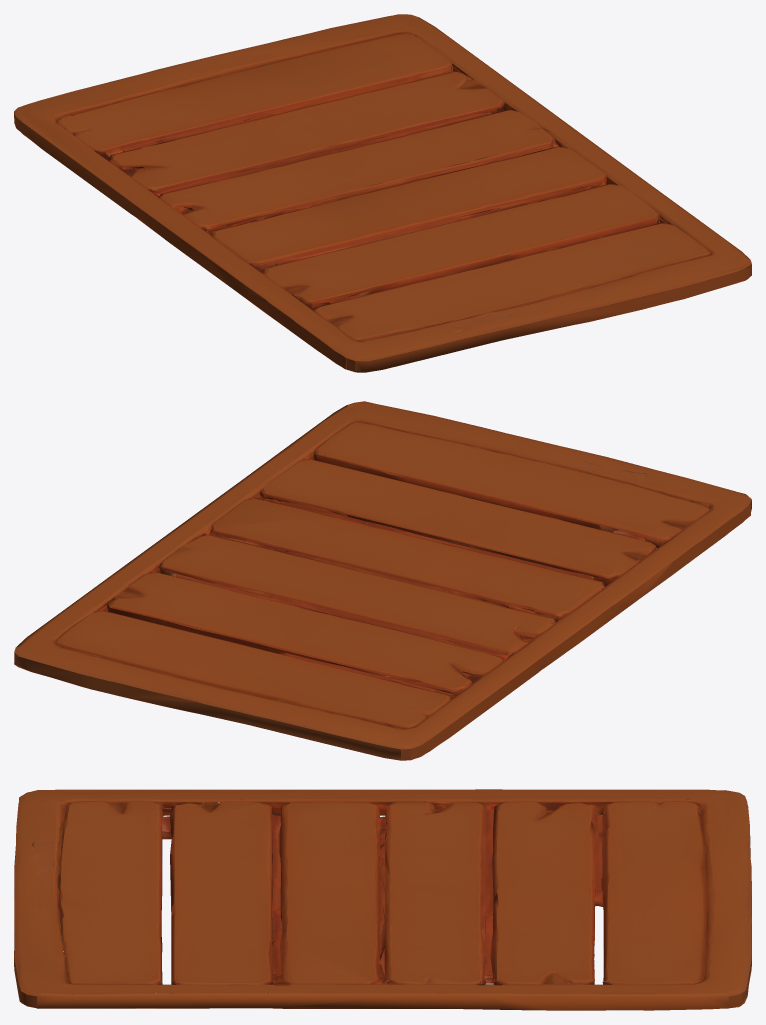
File: PROP_C1_FAKEBRIDGE_game.glb
3 views of the same model, one above another, from view 1: azimuth 30°, elevation 25°; view 2: azimuth 150°, elevation 25°; view 3: azimuth 270°, elevation 25° (orthographic). The views are drawn at different scales.
Parts seen in each view (by area): view 1: PROP_C1_FAKEBRIDGE; view 2: PROP_C1_FAKEBRIDGE; view 3: PROP_C1_FAKEBRIDGE.
Part boxes in pixels (left/top/right/bottom): PROP_C1_FAKEBRIDGE: left=14, top=14, right=751, bottom=372; PROP_C1_FAKEBRIDGE: left=14, top=401, right=751, bottom=760; PROP_C1_FAKEBRIDGE: left=14, top=789, right=751, bottom=1010.
Size of the model in its own units: 8 by 0.3032 by 12.
Materials: 1 (1 with a texture image).
